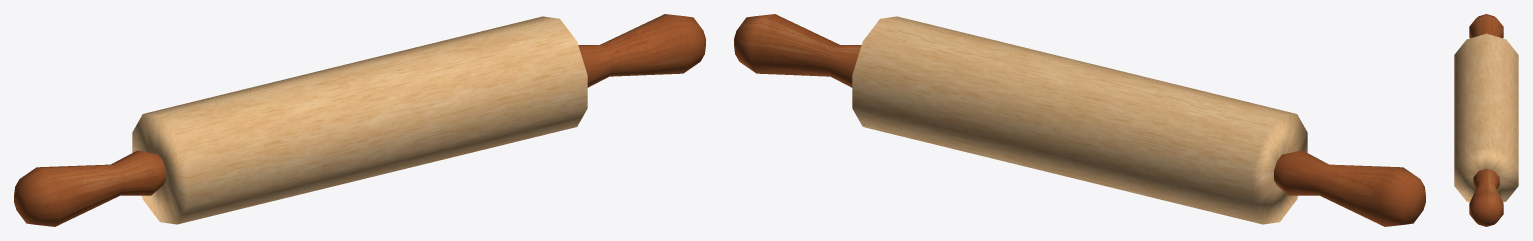
The model's file is RollingPin_Light.fbx.
3 renders of one model, left to right at view 1: azimuth 30°, elevation 25°; view 2: azimuth 150°, elevation 25°; view 3: azimuth 270°, elevation 25°, orthographic. The views are drawn at different scales.
Parts seen in each view (by area): view 1: RollingPin_Light; view 2: RollingPin_Light; view 3: RollingPin_Light.
Boxes of the visible parts, bbox=[...] form: RollingPin_Light: bbox=[14, 14, 705, 226]; RollingPin_Light: bbox=[734, 14, 1425, 226]; RollingPin_Light: bbox=[1454, 14, 1518, 226].
Bounding box in the file's own units: 165 × 24.52 × 23.32.
